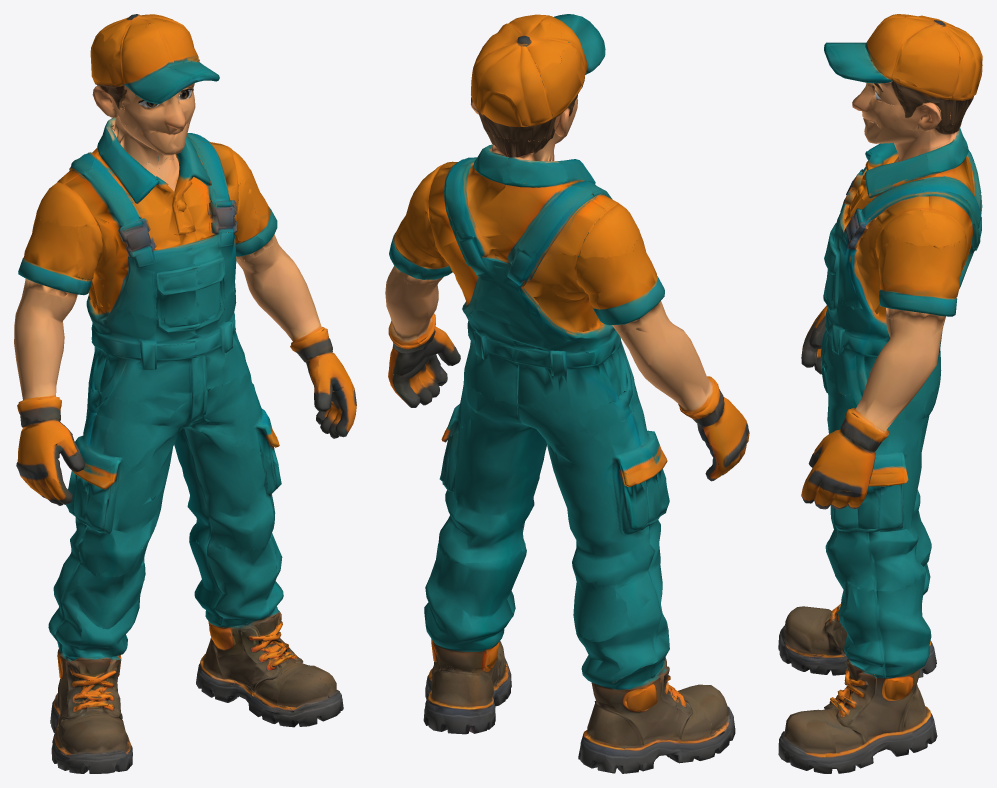
Rendered from GameWorker.fbx.
3 views of the same model, side by side, from view 1: azimuth 30°, elevation 25°; view 2: azimuth 150°, elevation 25°; view 3: azimuth 270°, elevation 25° (orthographic). The views are drawn at different scales.
Parts seen in each view (by area): view 1: GameWorker; view 2: GameWorker; view 3: GameWorker.
Part boxes in pixels (<box>): GameWorker: <box>14,14,356,773</box>; GameWorker: <box>385,14,749,773</box>; GameWorker: <box>778,14,982,773</box>.
Bounding box in the file's own units: 89.01 × 180 × 48.33.
